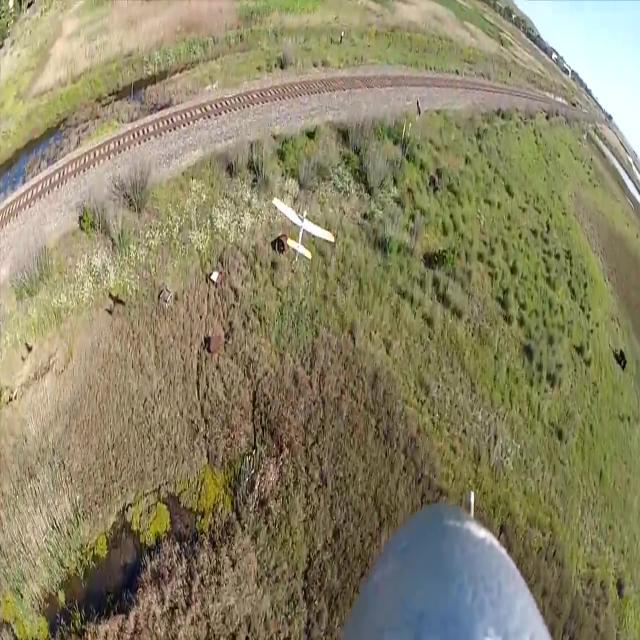iha: (271, 228, 335, 231)
